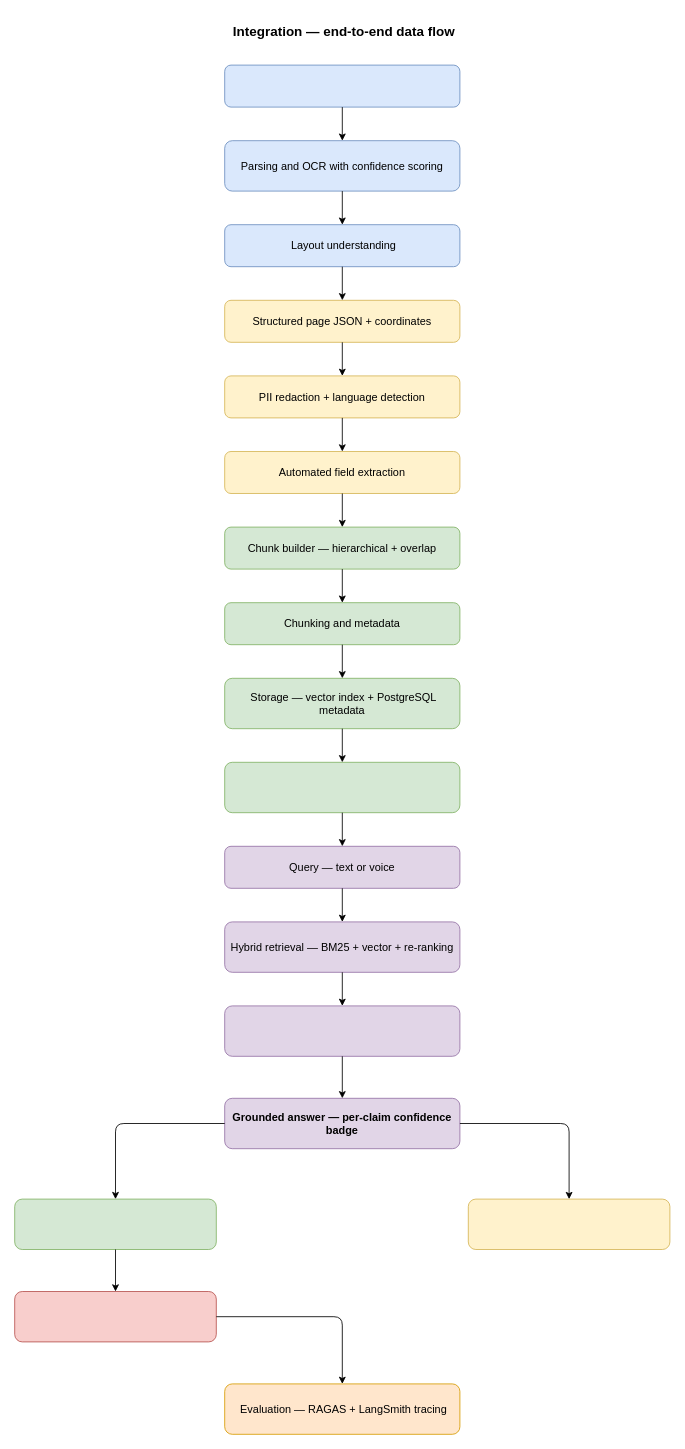
This 685x1449 diagram has some shape labels left out. Each missing label, with the centre of its shape:
Agentic RAG — HyDE + Critic Agent + NLI check: point 342,1030
Embeddings stored — language-specific model: point 342,787
Multi-document comparison view: point 568,1224
Side-by-side PDF viewer with citation highlight: point 115,1224
Upload and storage: point 342,85
User feedback loop — thumbs + correction store: point 115,1316
